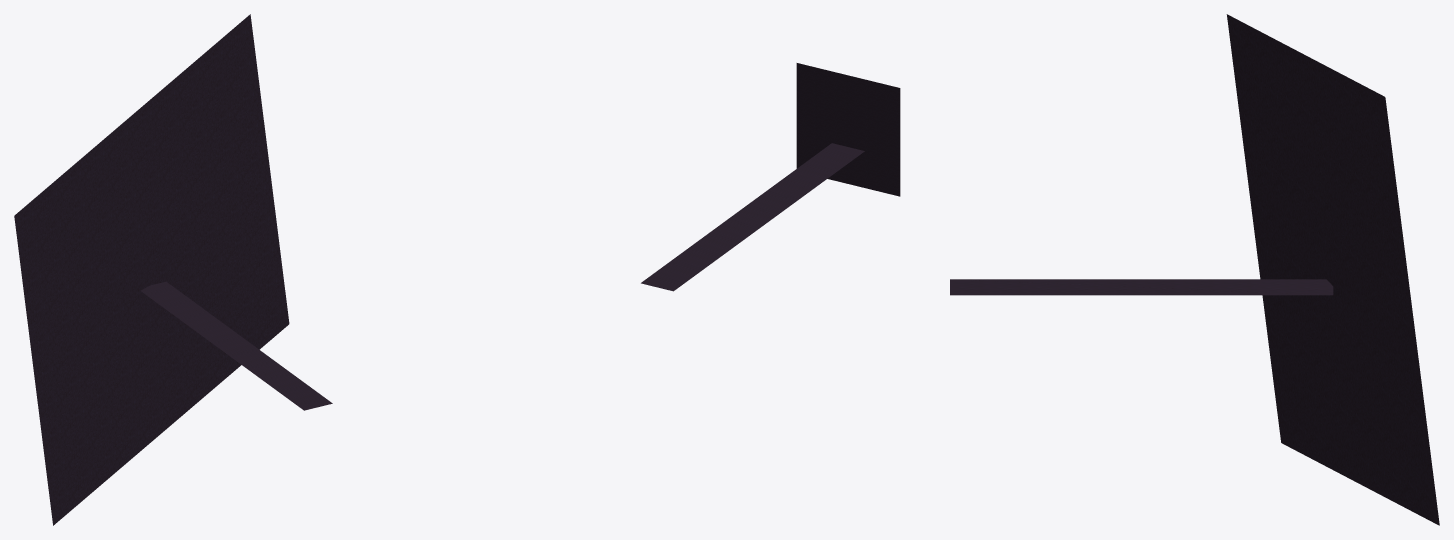
Rendered from level1.glb.
3 views of the same model, side by side, from view 1: azimuth 30°, elevation 25°; view 2: azimuth 150°, elevation 25°; view 3: azimuth 270°, elevation 25° (orthographic). The views are drawn at different scales.
Visible parts, largest first — view 1: Plane.001, Floor; view 2: Plane.002, Floor; view 3: Plane.001, Floor.
Boxes of the visible parts, bbox=[...] form: Plane.001: bbox=[14, 14, 289, 525]; Floor: bbox=[140, 281, 332, 410]; Plane.002: bbox=[796, 63, 900, 196]; Floor: bbox=[641, 143, 864, 291]; Plane.001: bbox=[1226, 14, 1439, 525]; Floor: bbox=[950, 279, 1333, 295].
Size of the model in its own units: 684 by 745 by 686.
Materials: 1 (1 with a texture image).
